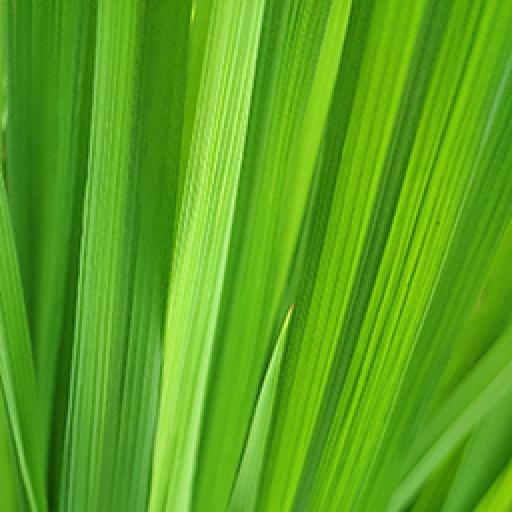Healthy Leaf: (4, 3, 504, 507)
